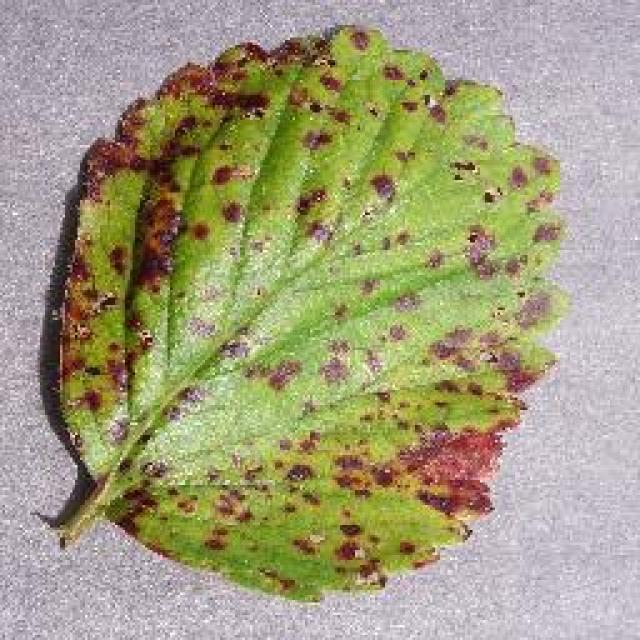Strawberry leaf scorch: (124, 130, 468, 502)
